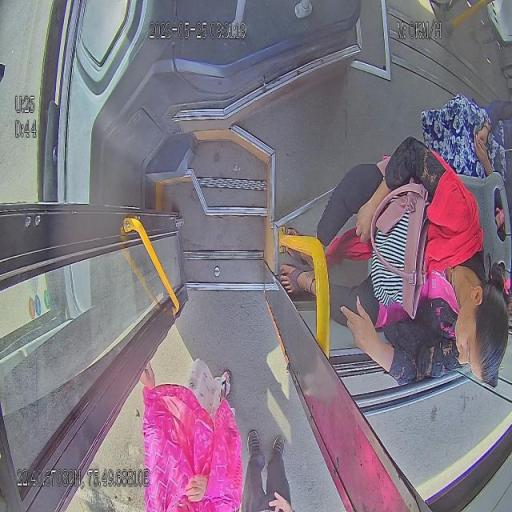persona: (278, 136, 508, 389), (140, 356, 244, 511), (420, 92, 511, 234), (243, 356, 294, 511)
